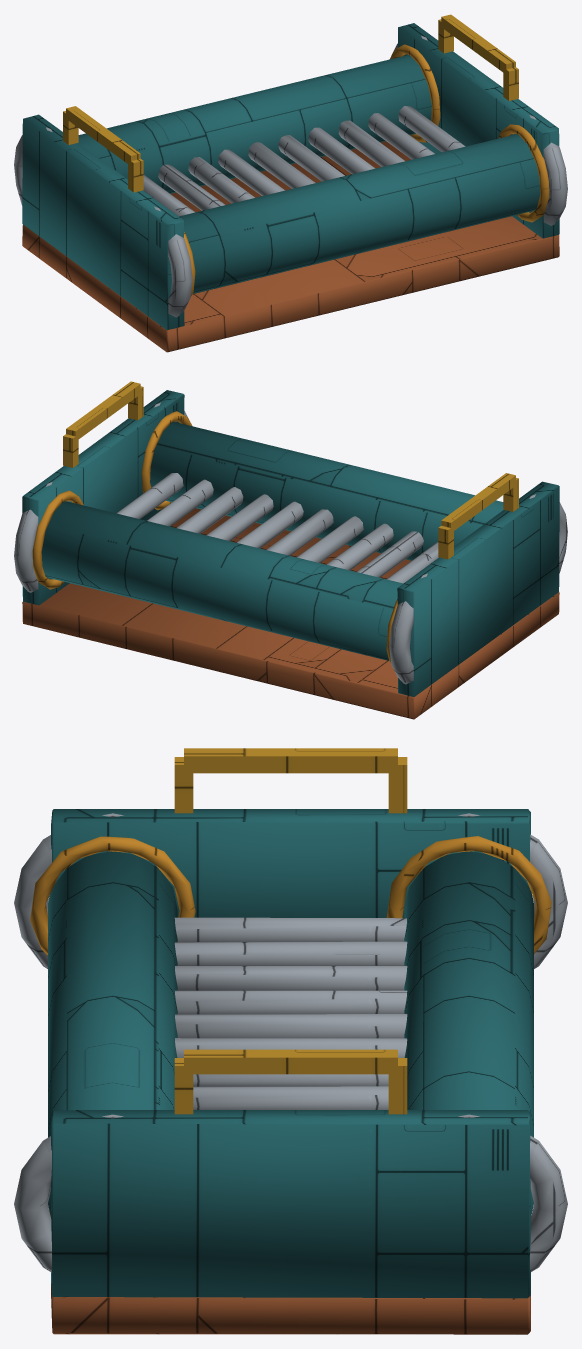
File: heat_exchanger_cassette_lod1.glb
3 views of the same model, one above another, from view 1: azimuth 30°, elevation 25°; view 2: azimuth 150°, elevation 25°; view 3: azimuth 270°, elevation 25° (orthographic). The views are drawn at different scales.
Parts seen in each view (by area): view 1: LOD1_Armor, LOD1_Hull, LOD1_BrushedMetal, LOD1_Warning, LOD1_Livery; view 2: LOD1_Armor, LOD1_Hull, LOD1_BrushedMetal, LOD1_Warning, LOD1_Livery; view 3: LOD1_Armor, LOD1_BrushedMetal, LOD1_Hull, LOD1_Warning, LOD1_Livery.
Boxes of the visible parts, bbox=[...] form: LOD1_Armor: bbox=[22, 23, 559, 330]; LOD1_Hull: bbox=[22, 141, 559, 352]; LOD1_BrushedMetal: bbox=[14, 35, 567, 317]; LOD1_Warning: bbox=[63, 14, 518, 192]; LOD1_Livery: bbox=[184, 44, 549, 296]; LOD1_Armor: bbox=[22, 390, 559, 696]; LOD1_Hull: bbox=[22, 508, 559, 719]; LOD1_BrushedMetal: bbox=[14, 402, 567, 684]; LOD1_Warning: bbox=[63, 381, 518, 559]; LOD1_Livery: bbox=[32, 411, 397, 664]; LOD1_Armor: bbox=[48, 809, 533, 1298]; LOD1_BrushedMetal: bbox=[14, 813, 567, 1272]; LOD1_Hull: bbox=[51, 1284, 530, 1334]; LOD1_Warning: bbox=[174, 748, 407, 1114]; LOD1_Livery: bbox=[30, 836, 551, 1217].
Bounding box in the file's own units: 4.19 × 1.7 × 3.11.
5 materials, 5 textured.
